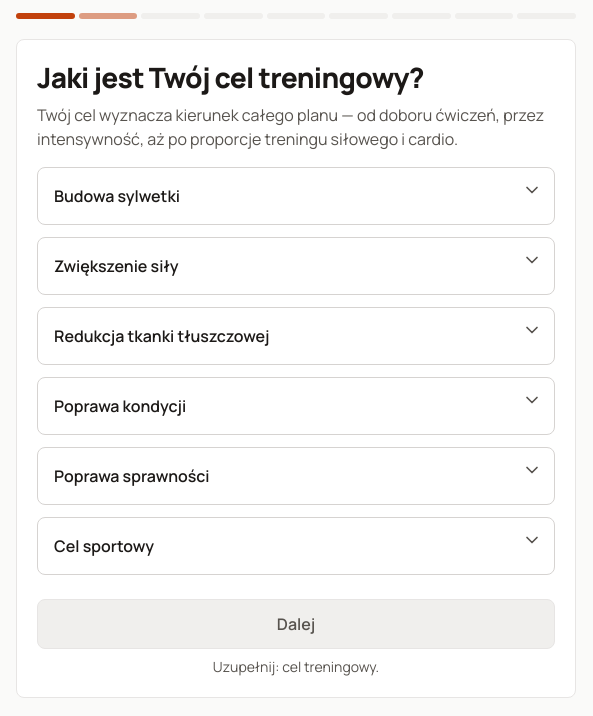
it: goals with descriptions, recommended session length, priority groups (23.10) › every goal has its own arrow; opening it shows the description and does not select the goal
Expected: the text "Więcej mięśni i lepsze proporcje ciała." is not shown
Click the button named "Pokaż opis: Budowa sylwetki": click(532, 190) [510,168,554,212]
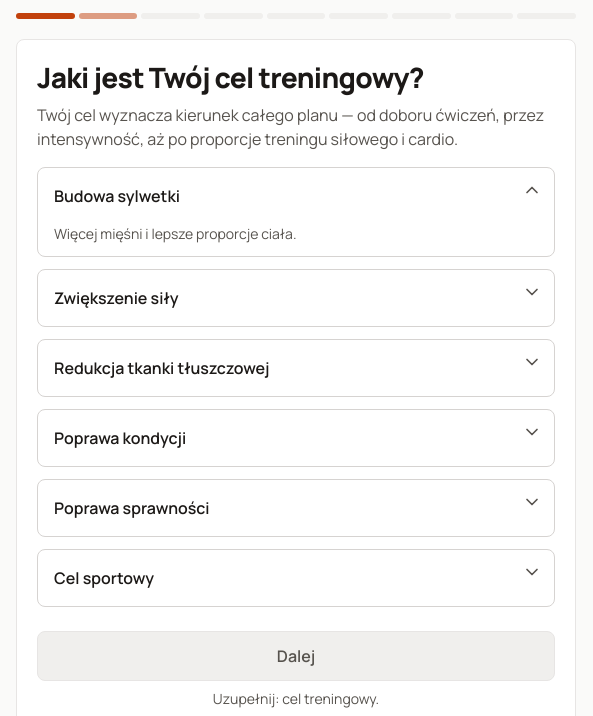
Expected: the radio button labelled "Budowa sylwetki" is not checked, [54,185,180,207]
Now the text "Więcej mięśni i lepsze proporcje ciała." is shown, box [54,224,296,243]
Click the button named "Pokaż opis: Zwiększenie siły": click(532, 292) [510,270,554,314]
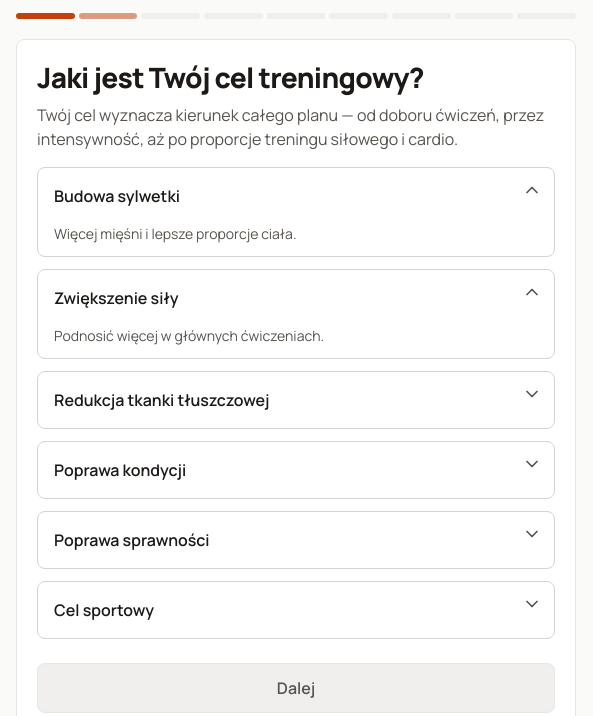
Expected: the radio button labelled "Zwiększenie siły" is not checked, [54,287,178,309]
Now the text "Podnosić więcej w głównych ćwiczeniach." is shown, box [54,326,324,345]
Click the button named "Pokaż opis: Redukcja tkanki tłuszczowej": click(532, 394) [510,372,554,416]
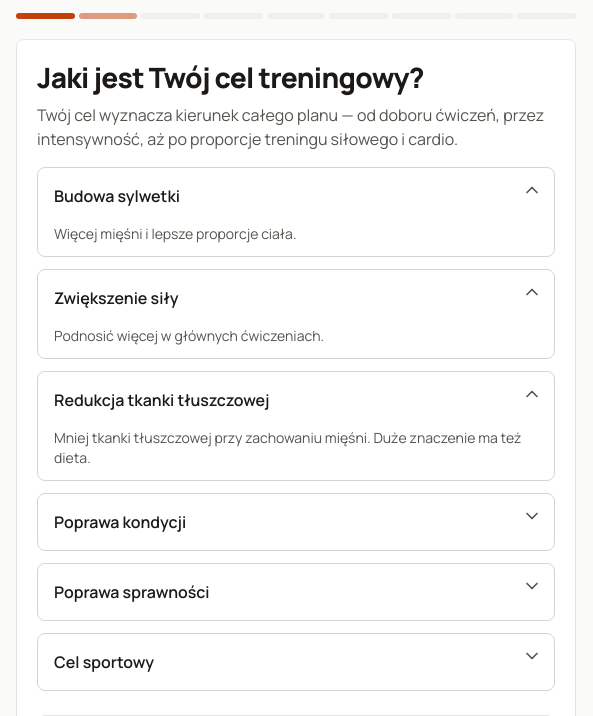
Expected: the radio button labelled "Redukcja tkanki tłuszczowej" is not checked, [54,389,270,411]
Now the text "Mniej tkanki tłuszczowej przy zachowaniu mięśni. Duże znaczenie ma też dieta." is shown, box [38,428,554,480]
Click the button named "Pokaż opis: Poprawa kondycji": click(532, 516) [510,494,554,538]
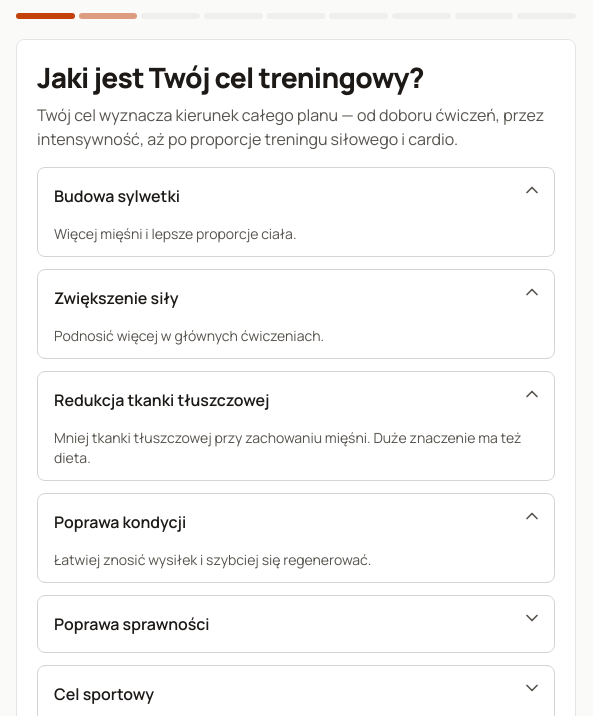
Expected: the radio button labelled "Poprawa kondycji" is not checked, [54,511,186,533]
Now the text "Łatwiej znosić wysiłek i szybciej się regenerować." is shown, box [54,550,371,569]
Click the button named "Pokaż opis: Poprawa sprawności": click(532, 618) [510,596,554,640]
(page scrolled)
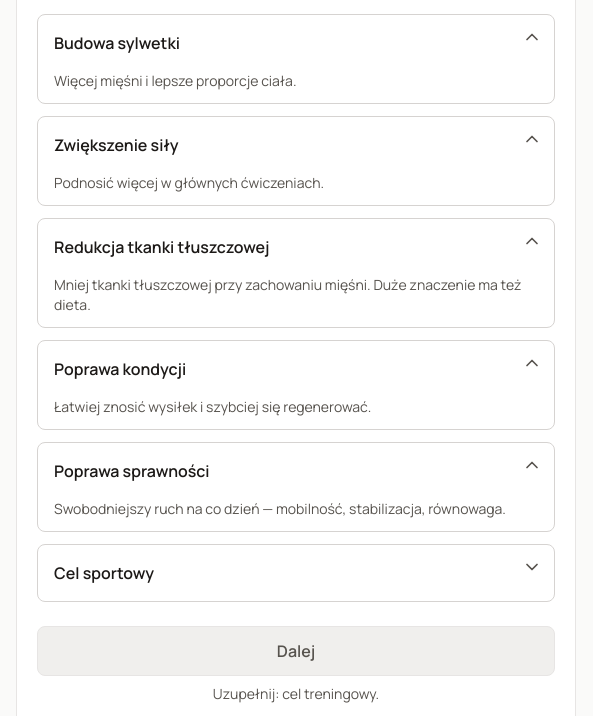
Expected: the radio button labelled "Poprawa sprawności" is not checked, [54,460,210,482]
Now the text "Swobodniejszy ruch na co dzień — mobilność, stabilizacja, równowaga." is shown, box [54,499,506,518]
Click the button named "Pokaż opis: Cel sportowy": click(532, 567) [510,545,554,589]
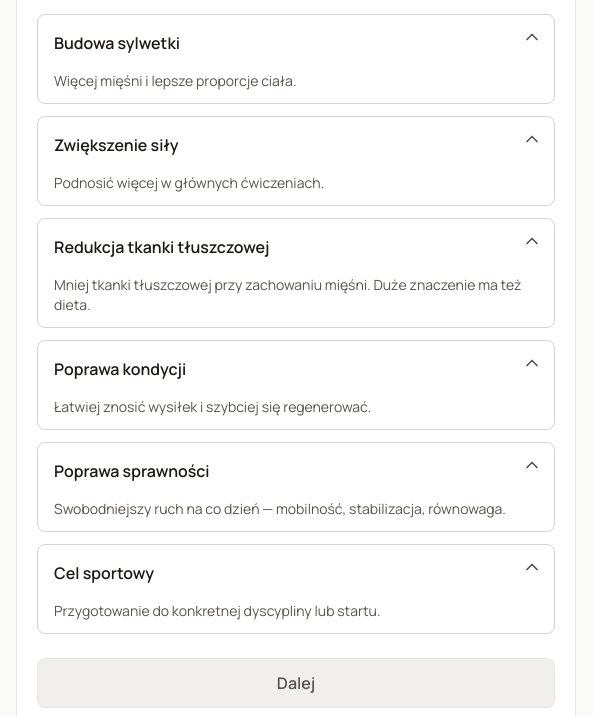
Expected: the radio button labelled "Cel sportowy" is not checked, [54,562,154,584]
Now the text "Przygotowanie do konkretnej dyscypliny lub startu." is shown, box [54,601,380,620]
